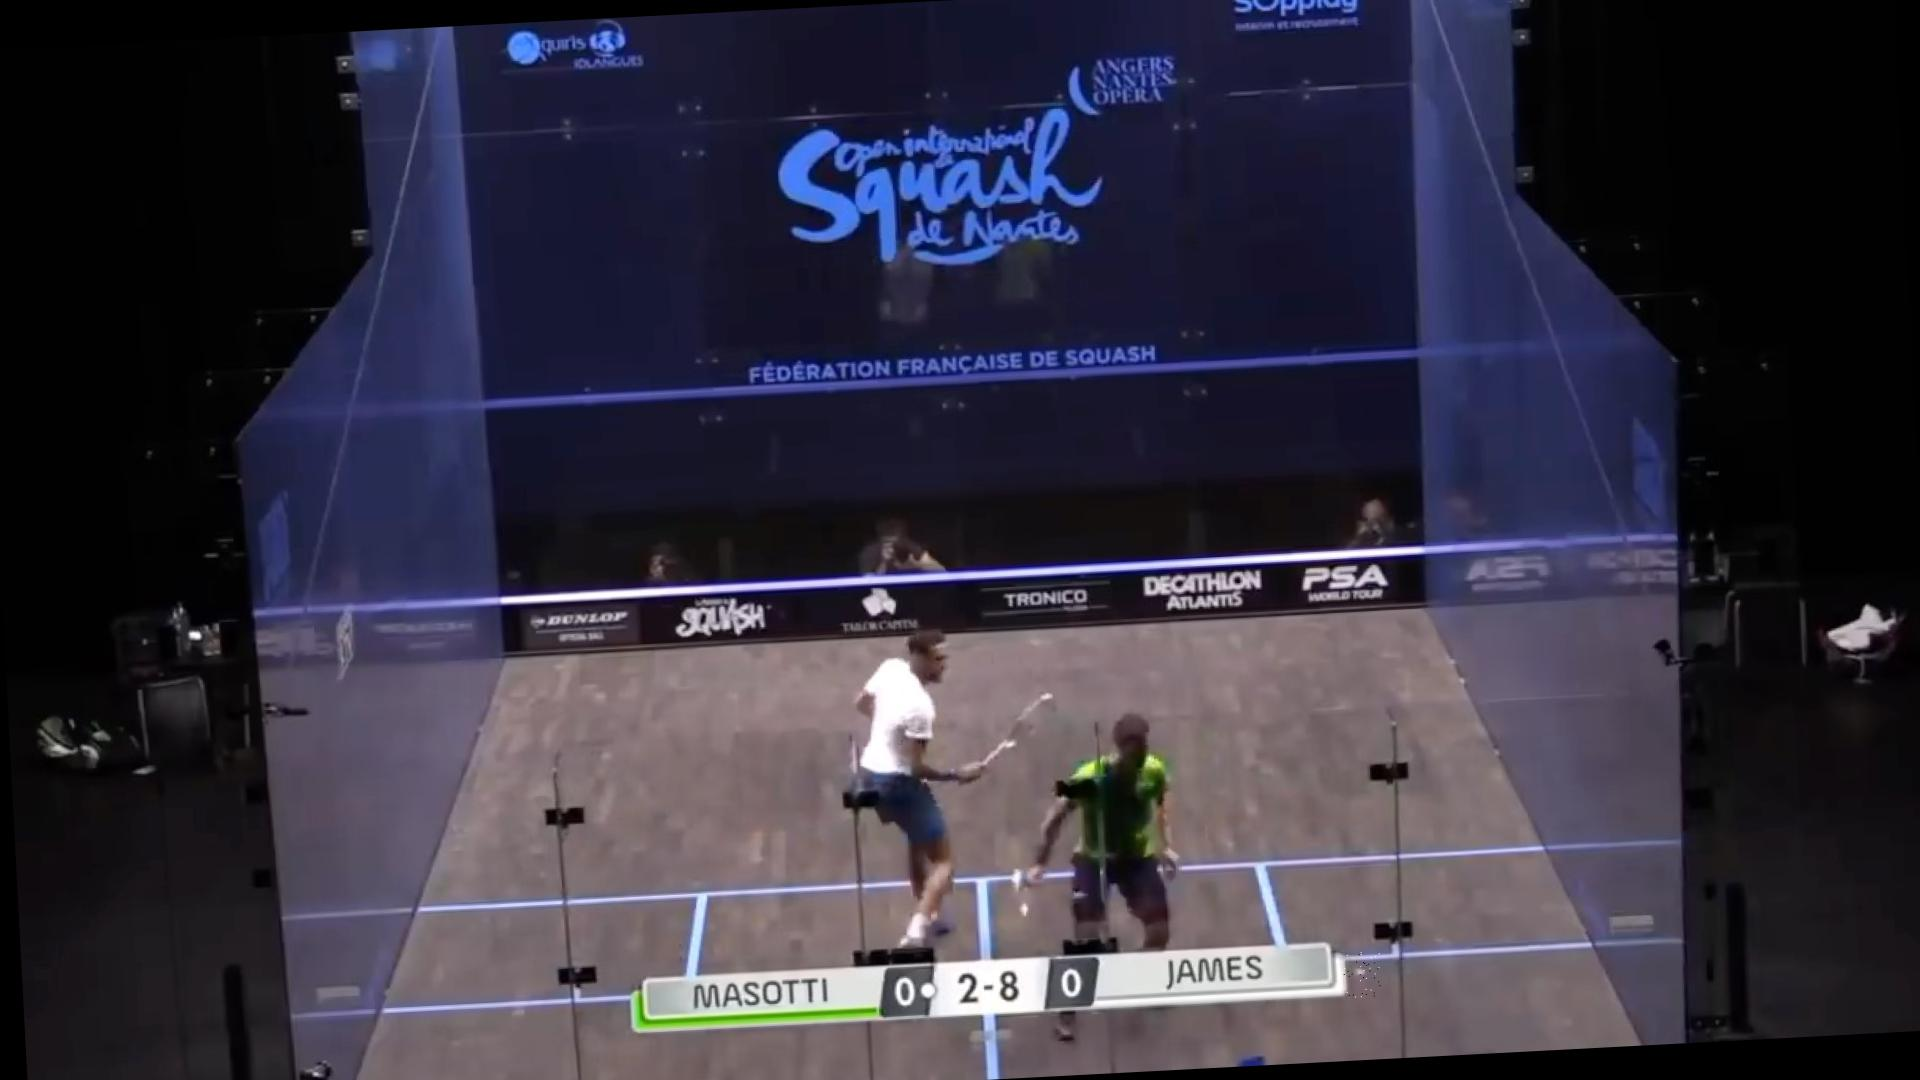Squash-Ball: (1342, 948, 1381, 997)
